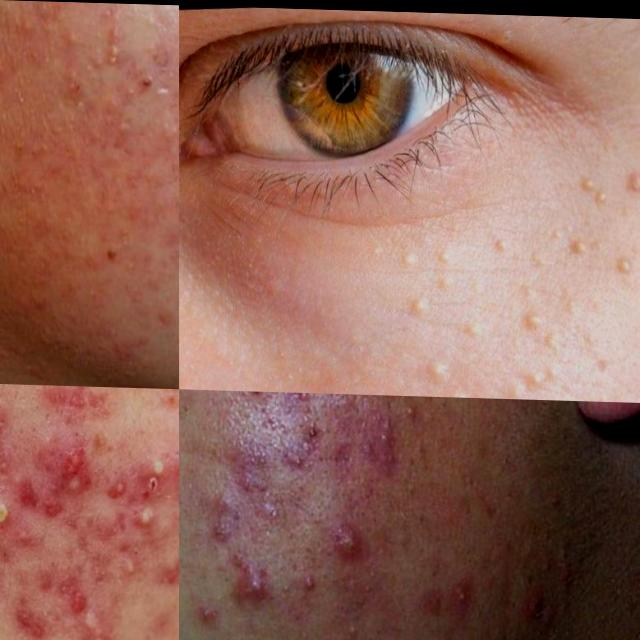7: (388, 239, 466, 320), (508, 284, 568, 359), (418, 343, 478, 395), (546, 214, 604, 264), (493, 355, 548, 397), (570, 165, 618, 212), (620, 158, 640, 197), (612, 246, 636, 273)
8: (364, 392, 395, 406)
9: (440, 567, 484, 616), (324, 516, 364, 569), (192, 590, 222, 640), (134, 497, 158, 537), (148, 447, 172, 485), (0, 492, 16, 537)
blackheads: (192, 477, 244, 551), (364, 399, 404, 480), (228, 441, 269, 502), (60, 449, 96, 513), (234, 564, 268, 615), (52, 571, 88, 616), (12, 477, 46, 520), (78, 604, 118, 640), (108, 505, 132, 544), (286, 391, 313, 416), (67, 386, 87, 416)
